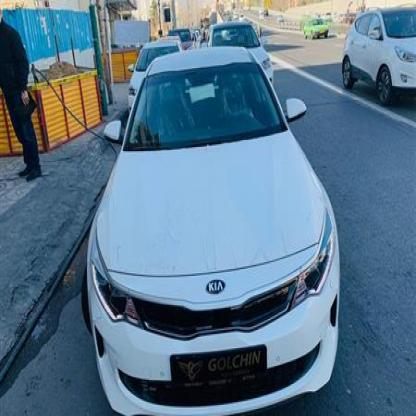Car: (99, 61, 338, 399), (338, 0, 416, 100), (124, 28, 188, 113), (209, 19, 274, 82), (306, 18, 330, 37)
